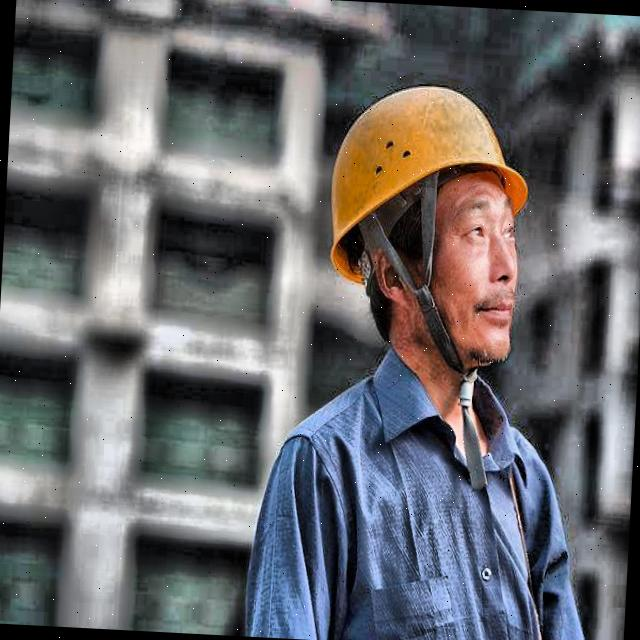helmet: (292, 19, 569, 396)
